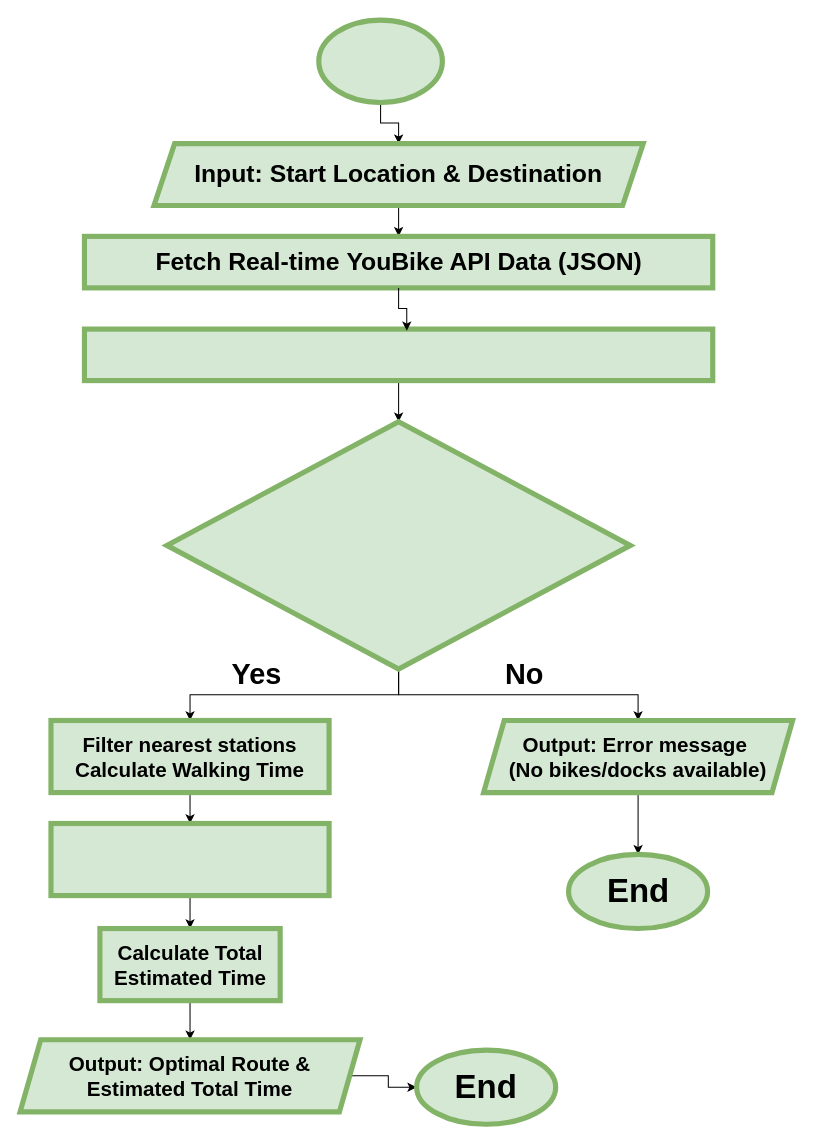
Some shapes in this 813 by 1144 pixel diagram are drawn without their labels. Each missing label, with the centre of its shape:
"Calculate Riding Distance, Time (Haversine Formula)" goes at [189,859].
"Check: Bikes at Start >= 1 AND Empty Docks at Destination >= 1 ?" goes at [398,545].
"Merge API Data with Static Route Database" goes at [398,354].
"Start" goes at [380,61].
